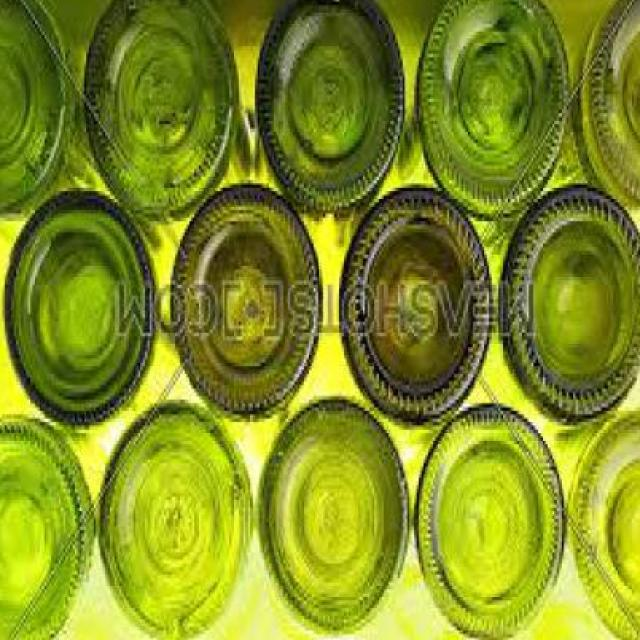kaca: (86, 0, 258, 233), (5, 191, 161, 433), (344, 188, 497, 430), (260, 400, 414, 640), (101, 408, 255, 640), (174, 188, 324, 425), (419, 0, 577, 225), (417, 411, 568, 640), (503, 191, 640, 430), (256, 0, 406, 216), (0, 0, 101, 225), (0, 419, 97, 640), (573, 411, 640, 640), (575, 0, 640, 222)
